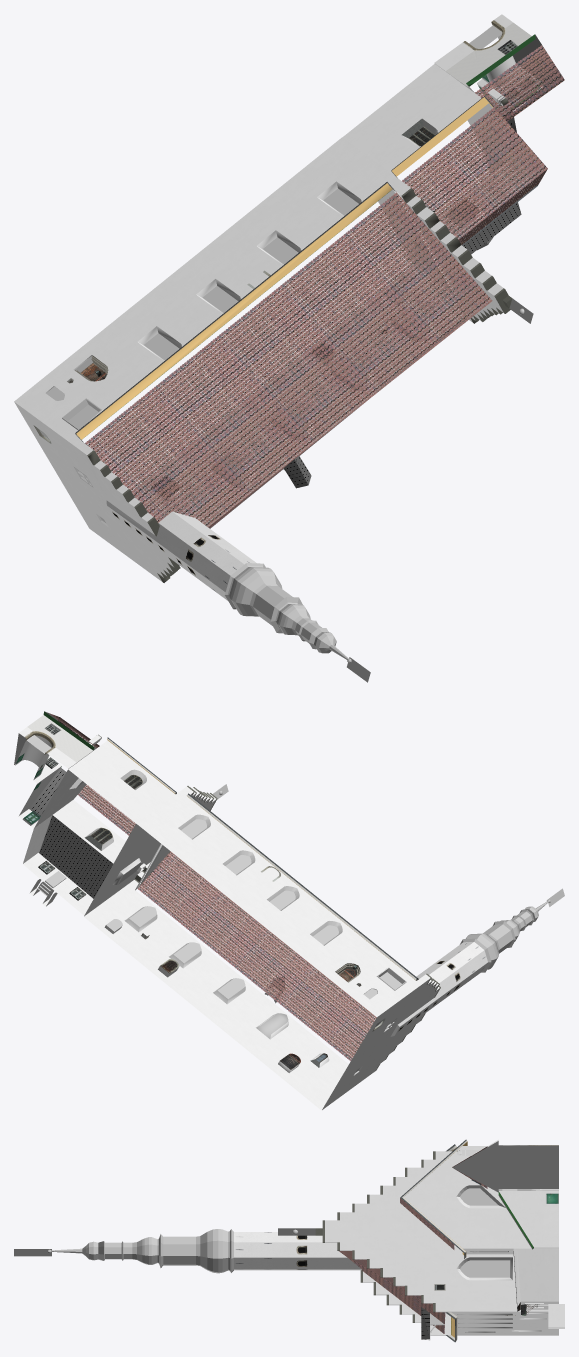
Rendered from Pyhavaimu_2_1.obj.
3 views of the same model, one above another, from view 1: azimuth 30°, elevation 25°; view 2: azimuth 150°, elevation 25°; view 3: azimuth 270°, elevation 25° (orthographic). The views are drawn at different scales.
Parts seen in each view (by area): view 1: Pyhavaimu_2_1; view 2: Pyhavaimu_2_1; view 3: Pyhavaimu_2_1.
Part boxes in pixels (<box>): Pyhavaimu_2_1: <box>14,14,564,682</box>; Pyhavaimu_2_1: <box>14,711,564,1110</box>; Pyhavaimu_2_1: <box>14,1139,564,1342</box>.
Bounding box in the file's own units: 51.9 × 42.26 × 56.
